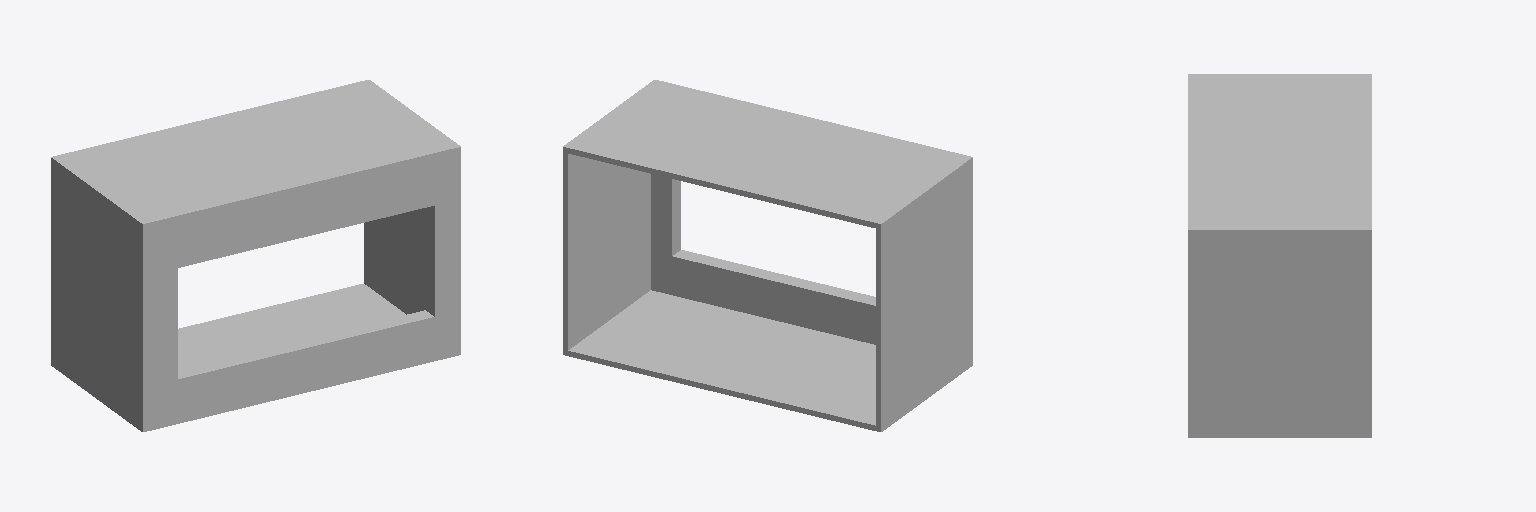
File: ver2.obj
The picture shows the model from 3 angles: view 1: azimuth 30°, elevation 25°; view 2: azimuth 150°, elevation 25°; view 3: azimuth 270°, elevation 25°; orthographic projection.
Parts seen in each view (by area): view 1: Body; view 2: Body; view 3: Body.
Boxes of the visible parts, box(x1,y1,x2,y2) form: Body: box(51, 80, 460, 431); Body: box(563, 80, 972, 431); Body: box(1188, 74, 1371, 437).
Size of the model in its own units: 120 by 75 by 60.